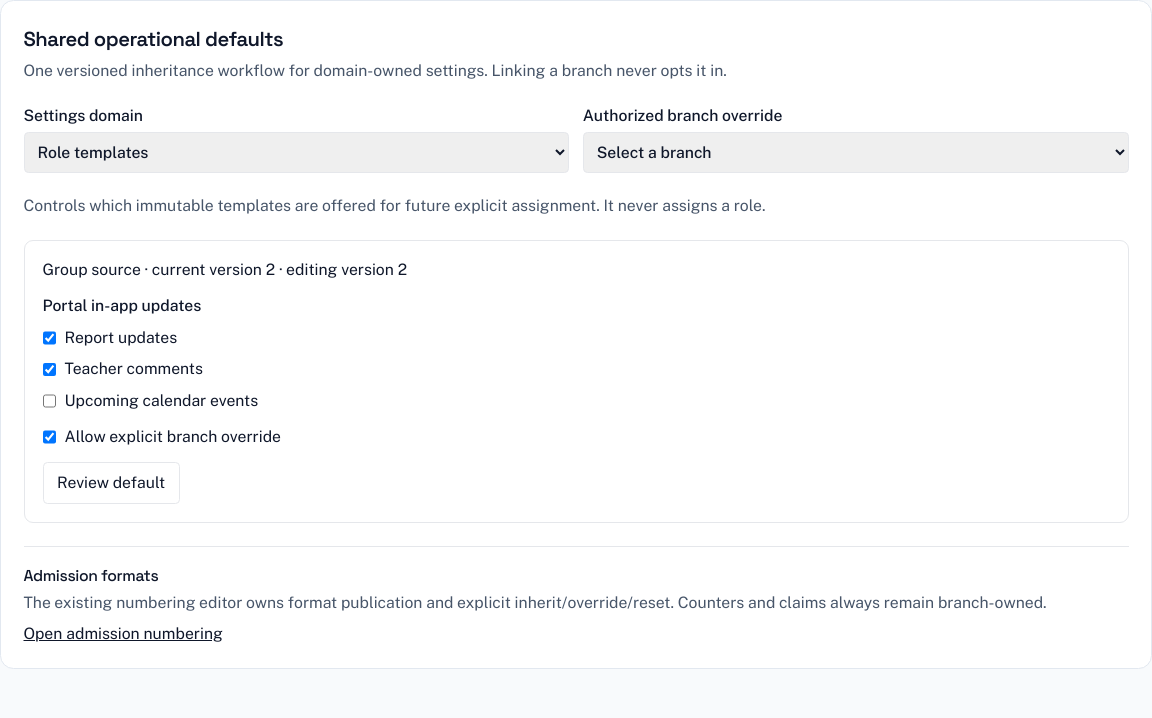
uses one typed defaults editor with review, origin and explicit branch reset controls
Select "Notifications" in the dropdown labelled "Settings domain" at [296, 152], box [24,132,569,172]
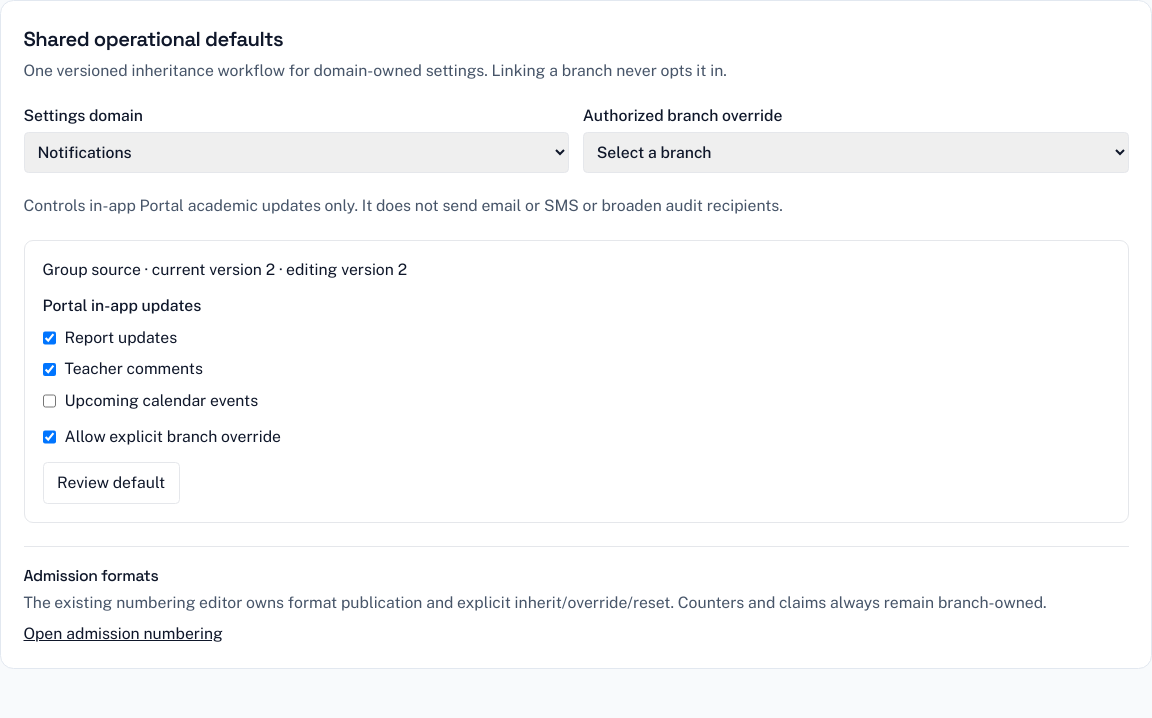
Expected: the text "in-app Portal academic updates only" is shown, [24,196,783,215]
Click the button "Review default" at [111, 483], box [42,462,180,504]
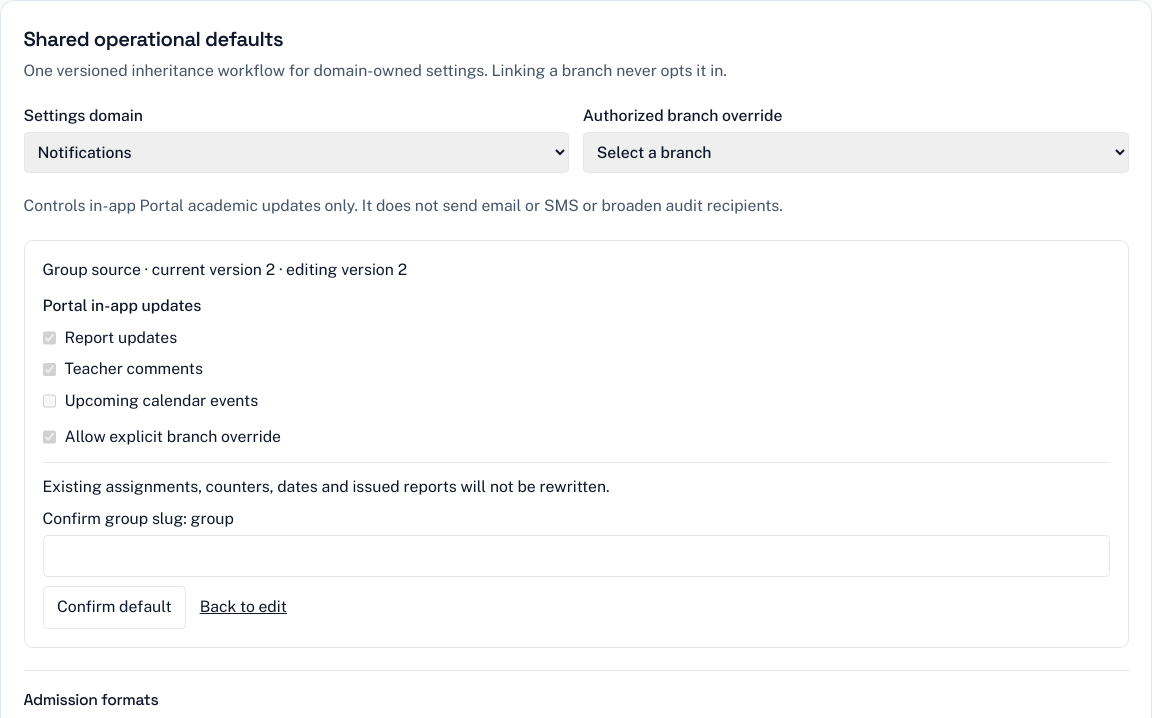
Expected: the text "will not be rewritten" is shown, [42,477,610,496]
Expected: the button "Confirm default" is disabled, [42,586,186,628]
Type "group" into the field labelled "Confirm group slug: group" at [576, 556], box [42,534,1110,577]
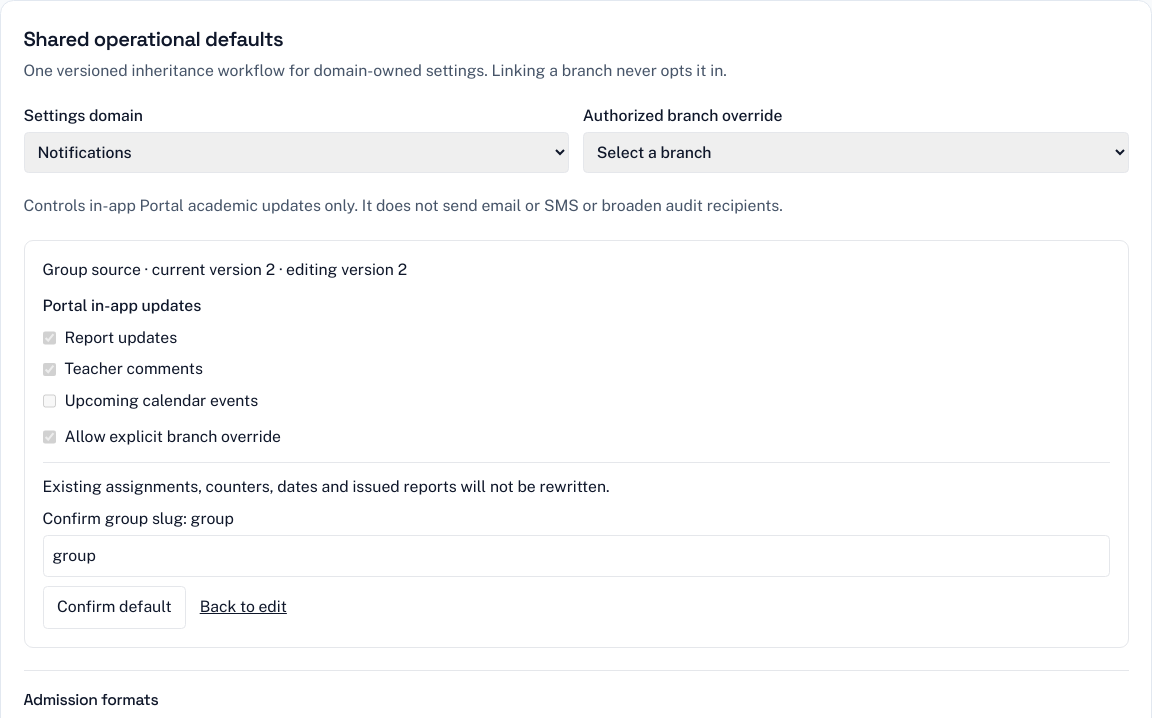
Click the button "Confirm default" at [114, 607], box [42,586,186,628]
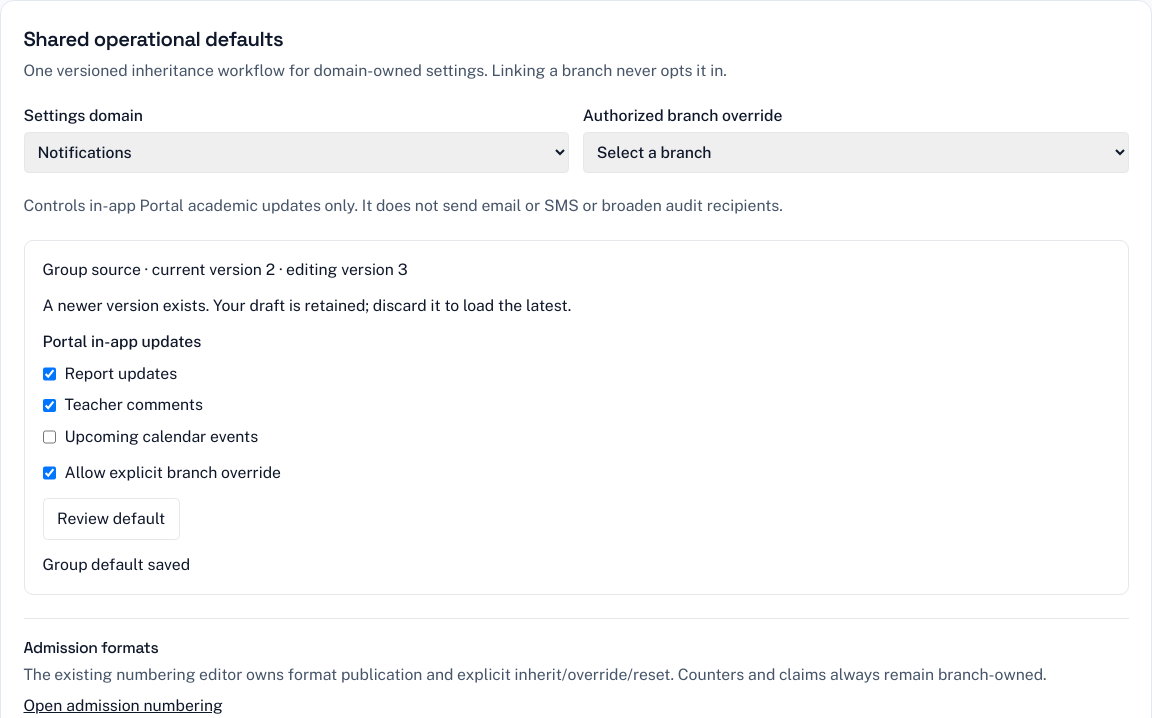
Select "Headquarters" in the dropdown labelled "Authorized branch override" at [856, 152], box [583,132,1129,172]
(page scrolled)
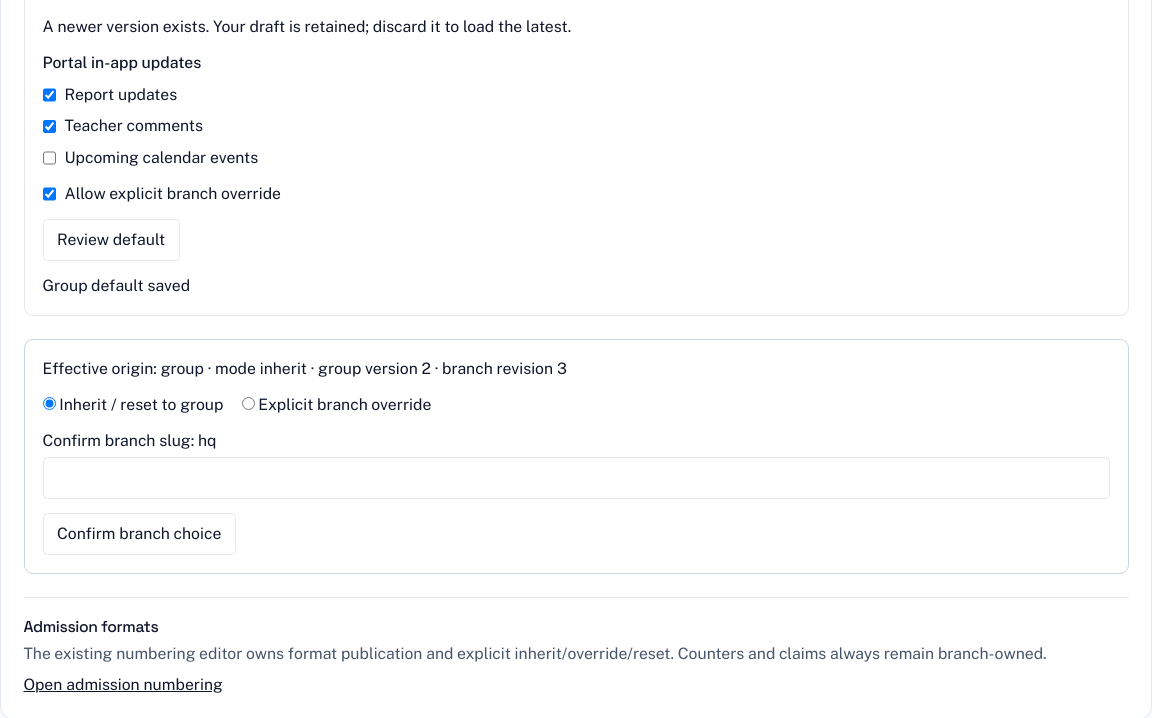
Expected: the text "Counters and claims always remain branch-owned" is shown, [24,644,1047,662]
Expected: the text "Effective origin: group" is shown, [42,358,567,378]
Expected: the radio button labelled "Inherit / reset to group" is checked, [42,396,56,410]
